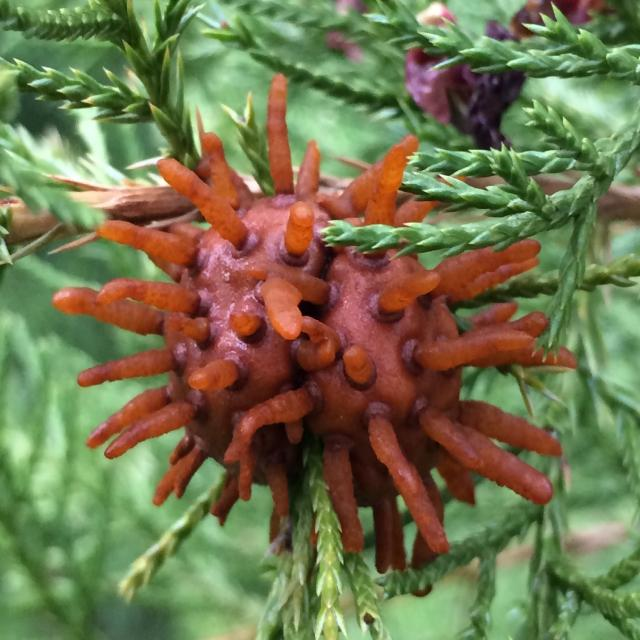Gymnosporangium_Rusts: (48, 72, 578, 581)
